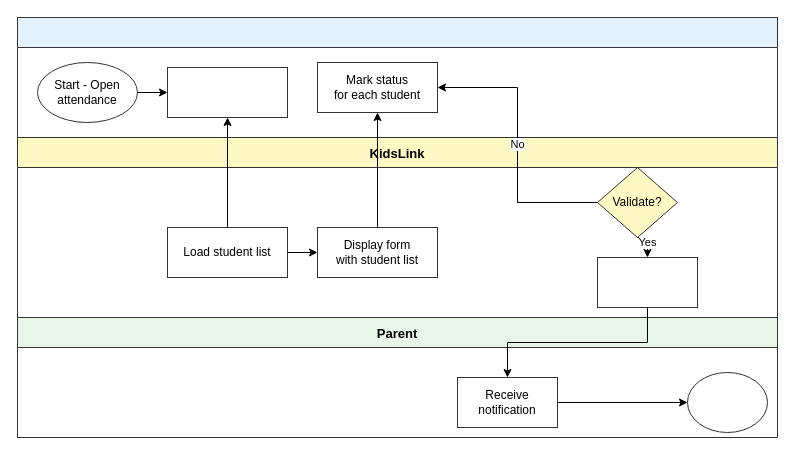
Some shapes in this 795 by 455 pixel diagram are drawn without their labels. The shapes that lost their labels are listed below. From the top down, each one's box as (x1, y1, x2, y2) in pixels, then its label:
(166, 66, 288, 118): Select class and attendance date
(16, 16, 778, 138): Teacher
(596, 256, 698, 308): Save to database
(686, 372, 768, 432): Finish
